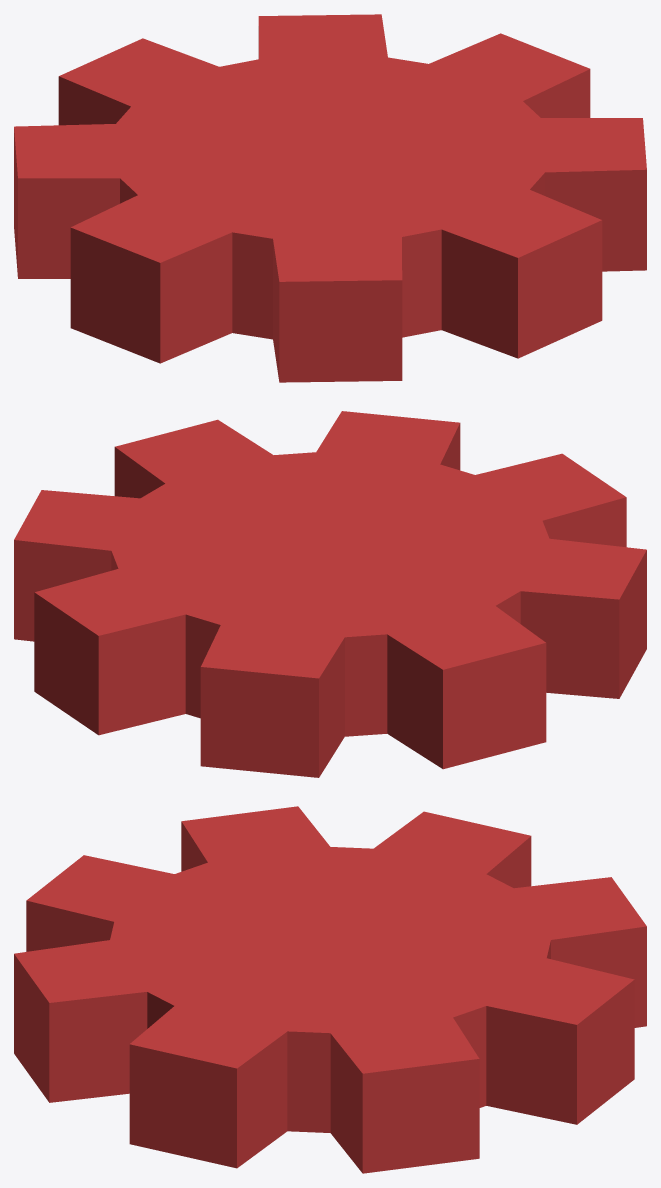
Rendered from Crank.gltf.
3 views of the same model, one above another, from view 1: azimuth 30°, elevation 25°; view 2: azimuth 150°, elevation 25°; view 3: azimuth 270°, elevation 25° (orthographic).
Parts seen in each view (by area): view 1: Circle; view 2: Circle; view 3: Circle.
Part boxes in pixels (left/top/right/bottom): Circle: left=14, top=14, right=646, bottom=382; Circle: left=14, top=411, right=646, bottom=777; Circle: left=14, top=806, right=646, bottom=1173.
Size of the model in its own units: 1.15 by 0.2 by 1.15.
1 material, 1 textured.
